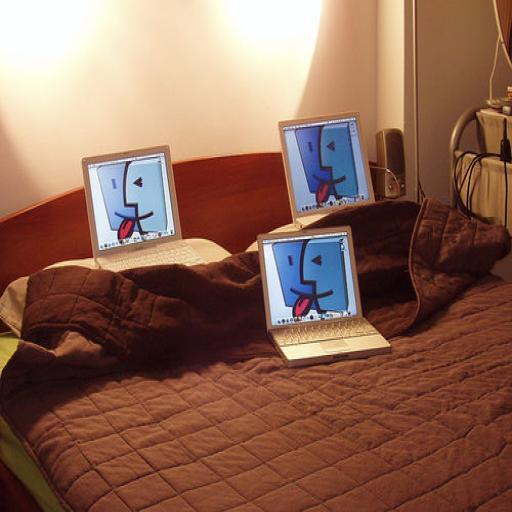bed: (10, 177, 512, 512)
